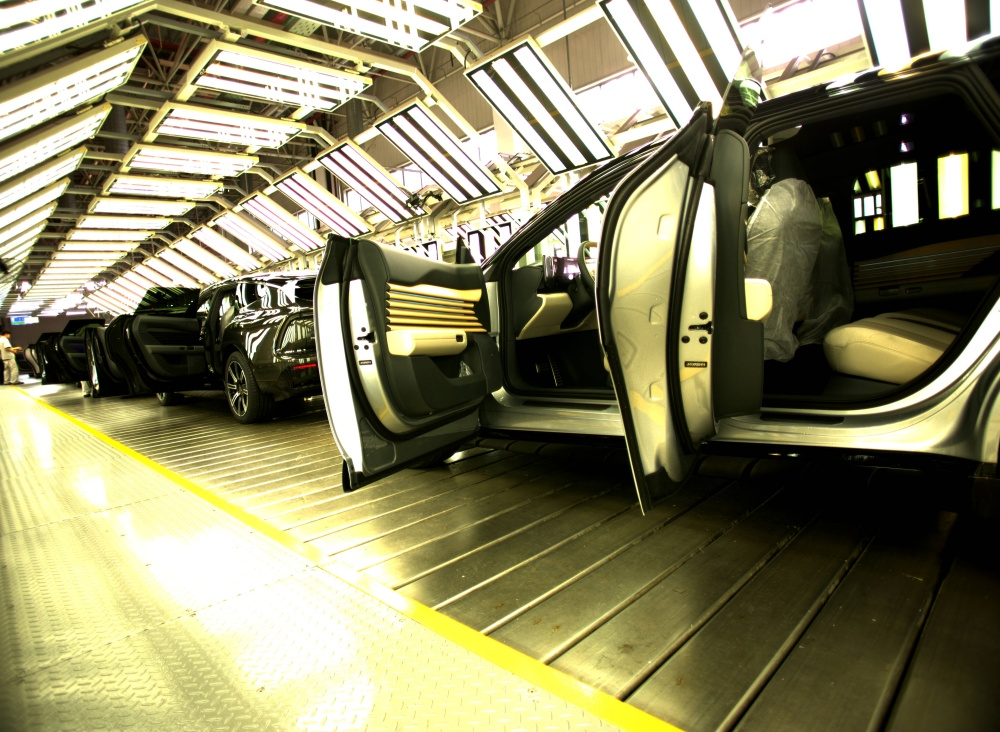armrest_color: (385, 328, 469, 357)
panel_color: (384, 278, 488, 334)
